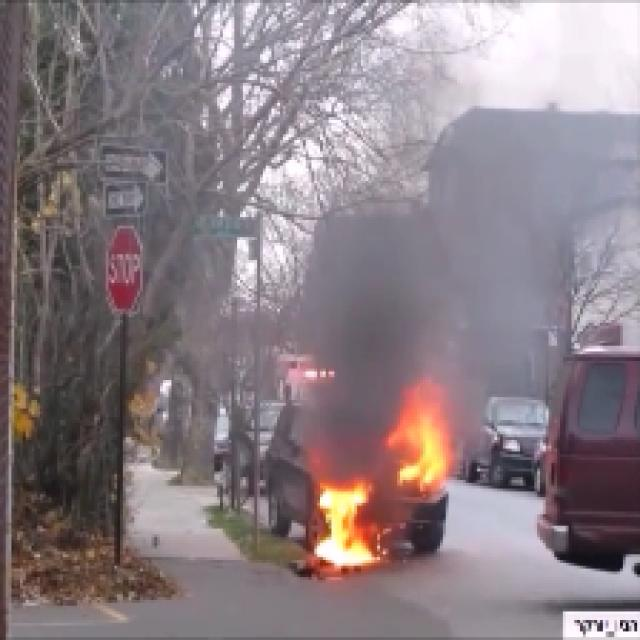fire: (316, 485, 374, 572)
smoke: (317, 230, 503, 388), (316, 390, 370, 483)
